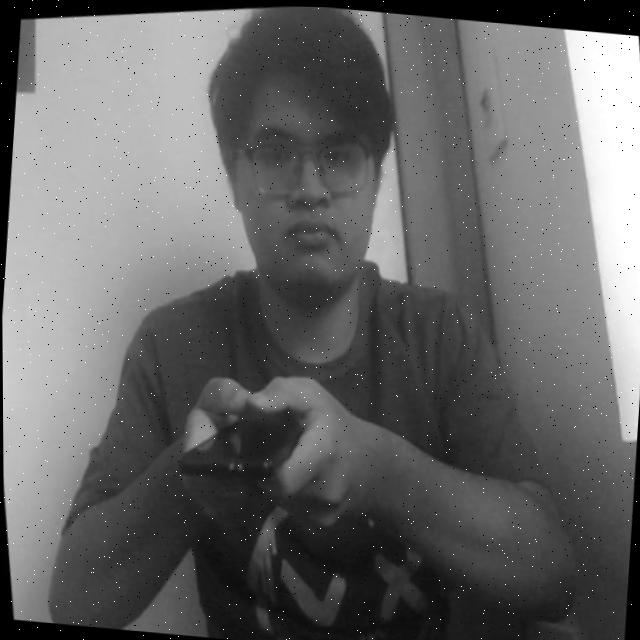phone: (155, 362, 329, 528)
